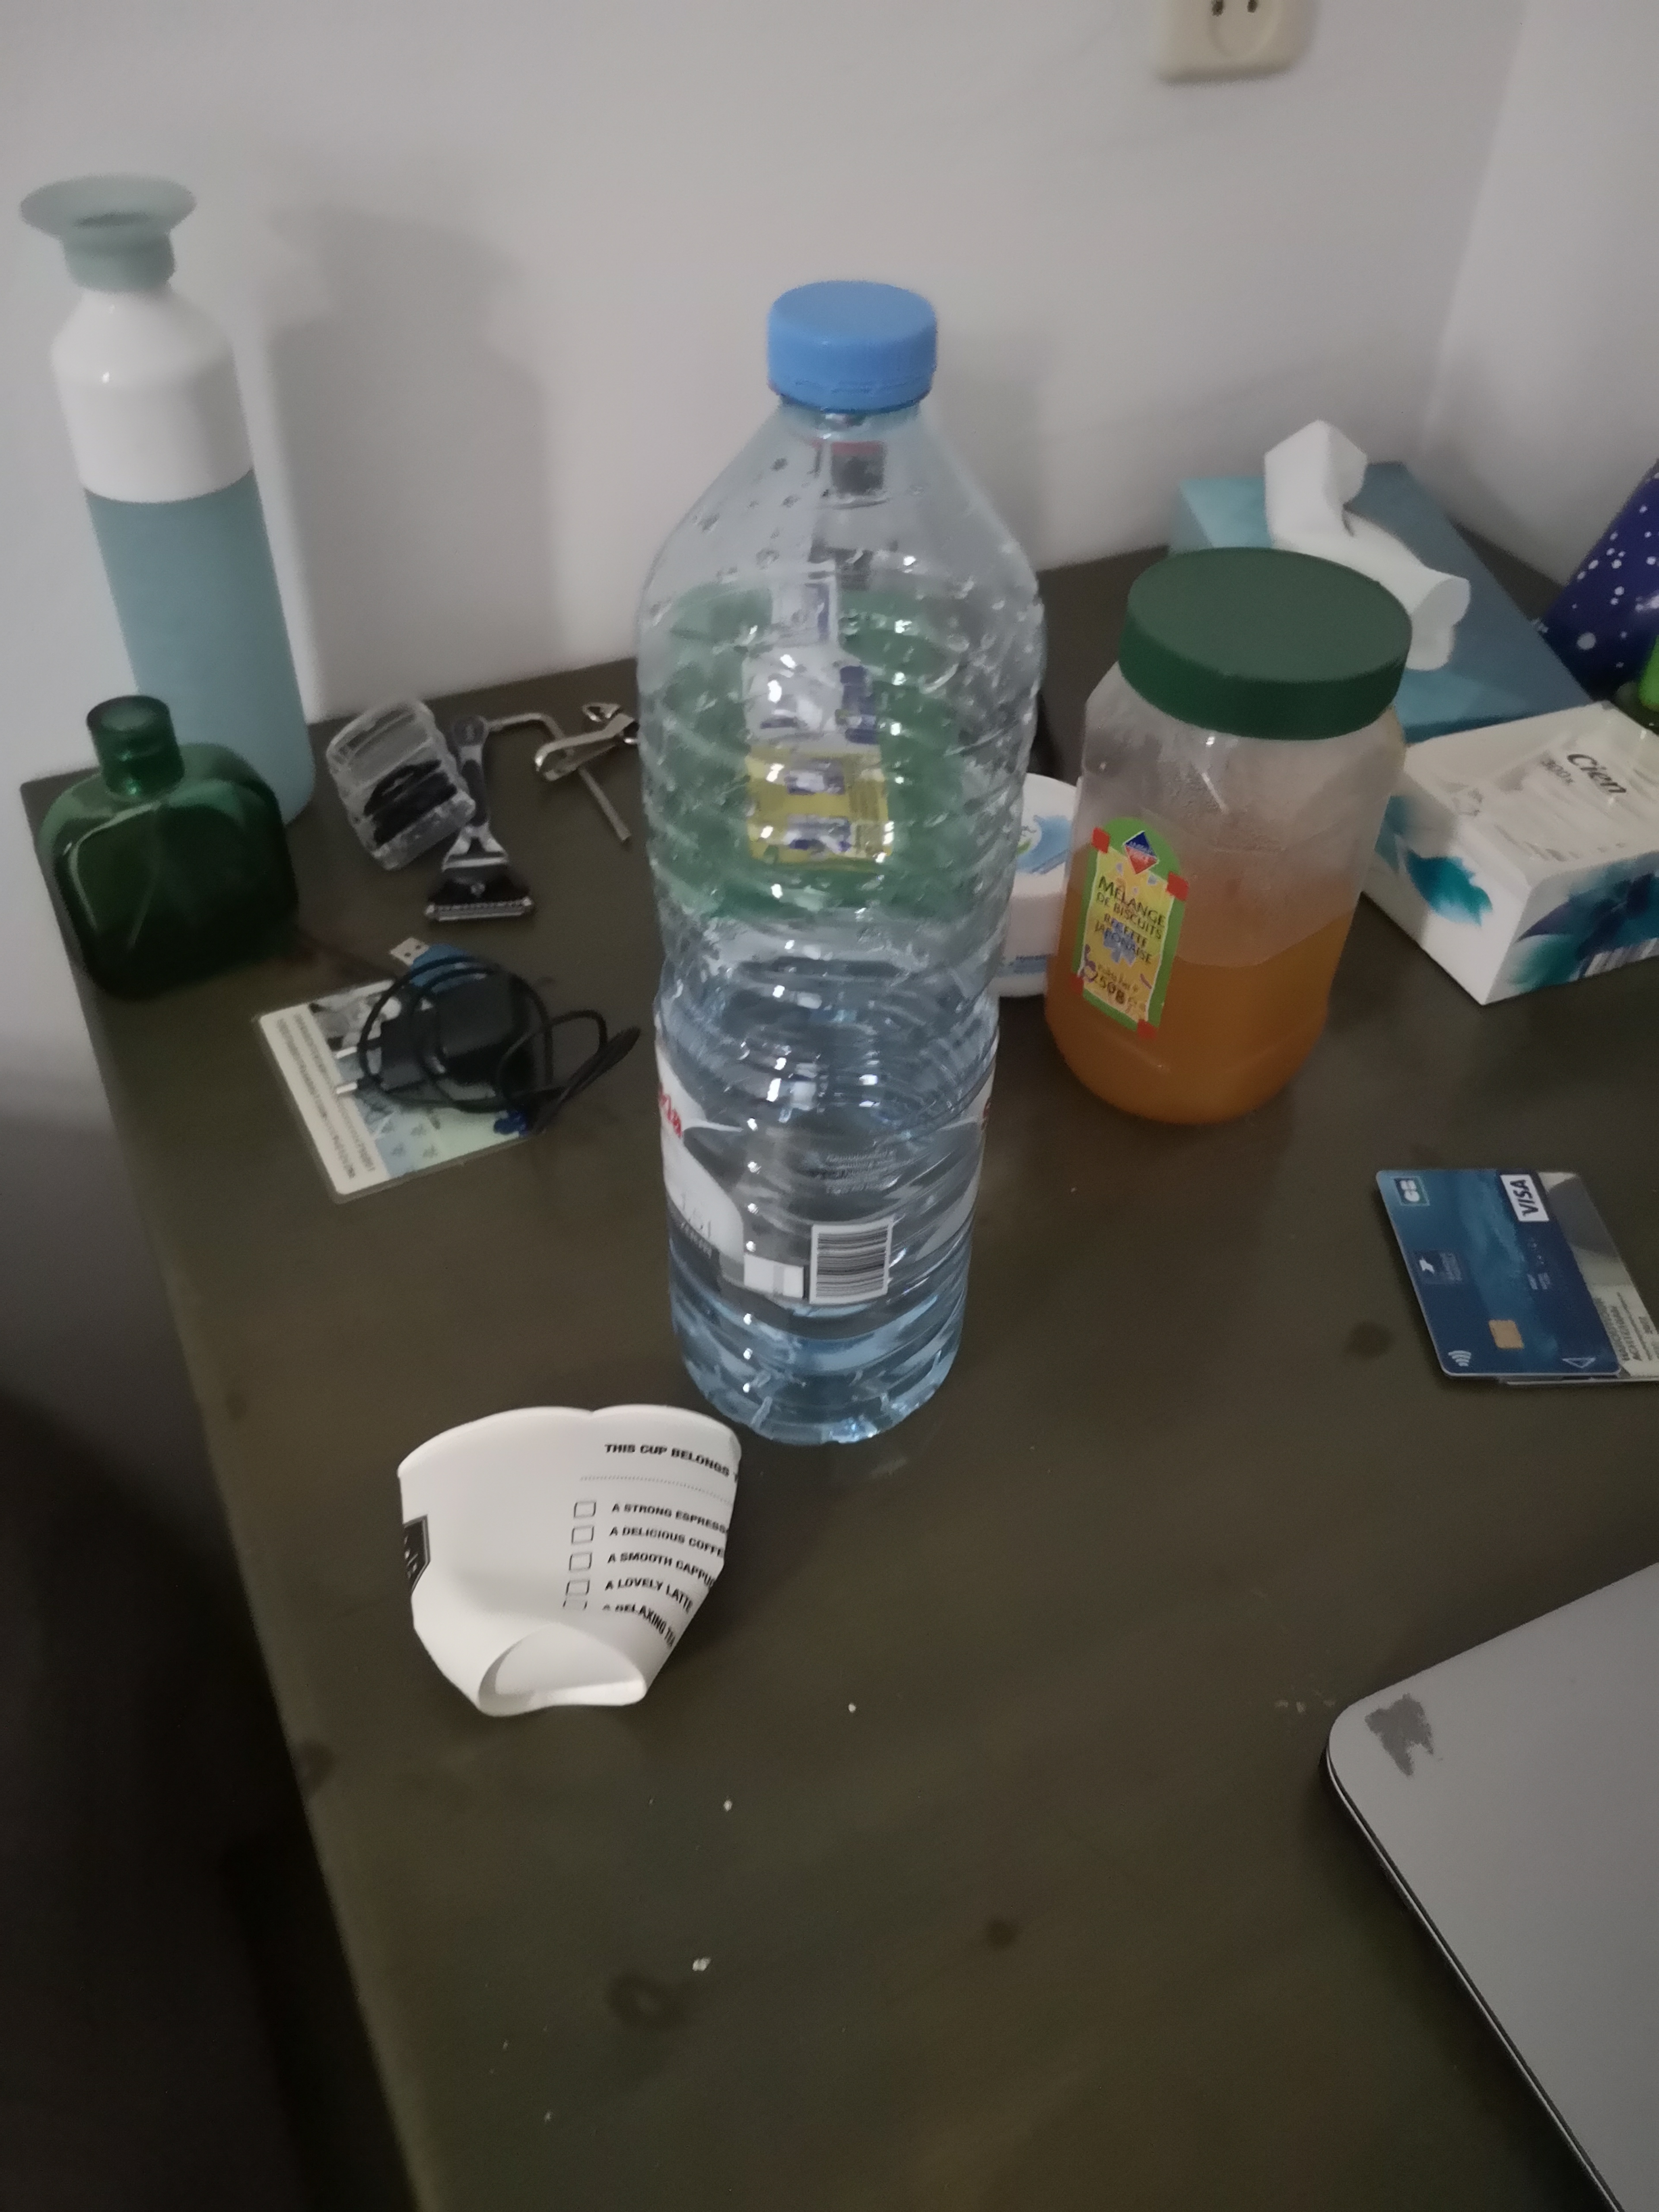cup: (368, 1381, 758, 1742)
plastic_bottle: (620, 254, 1073, 1468)
